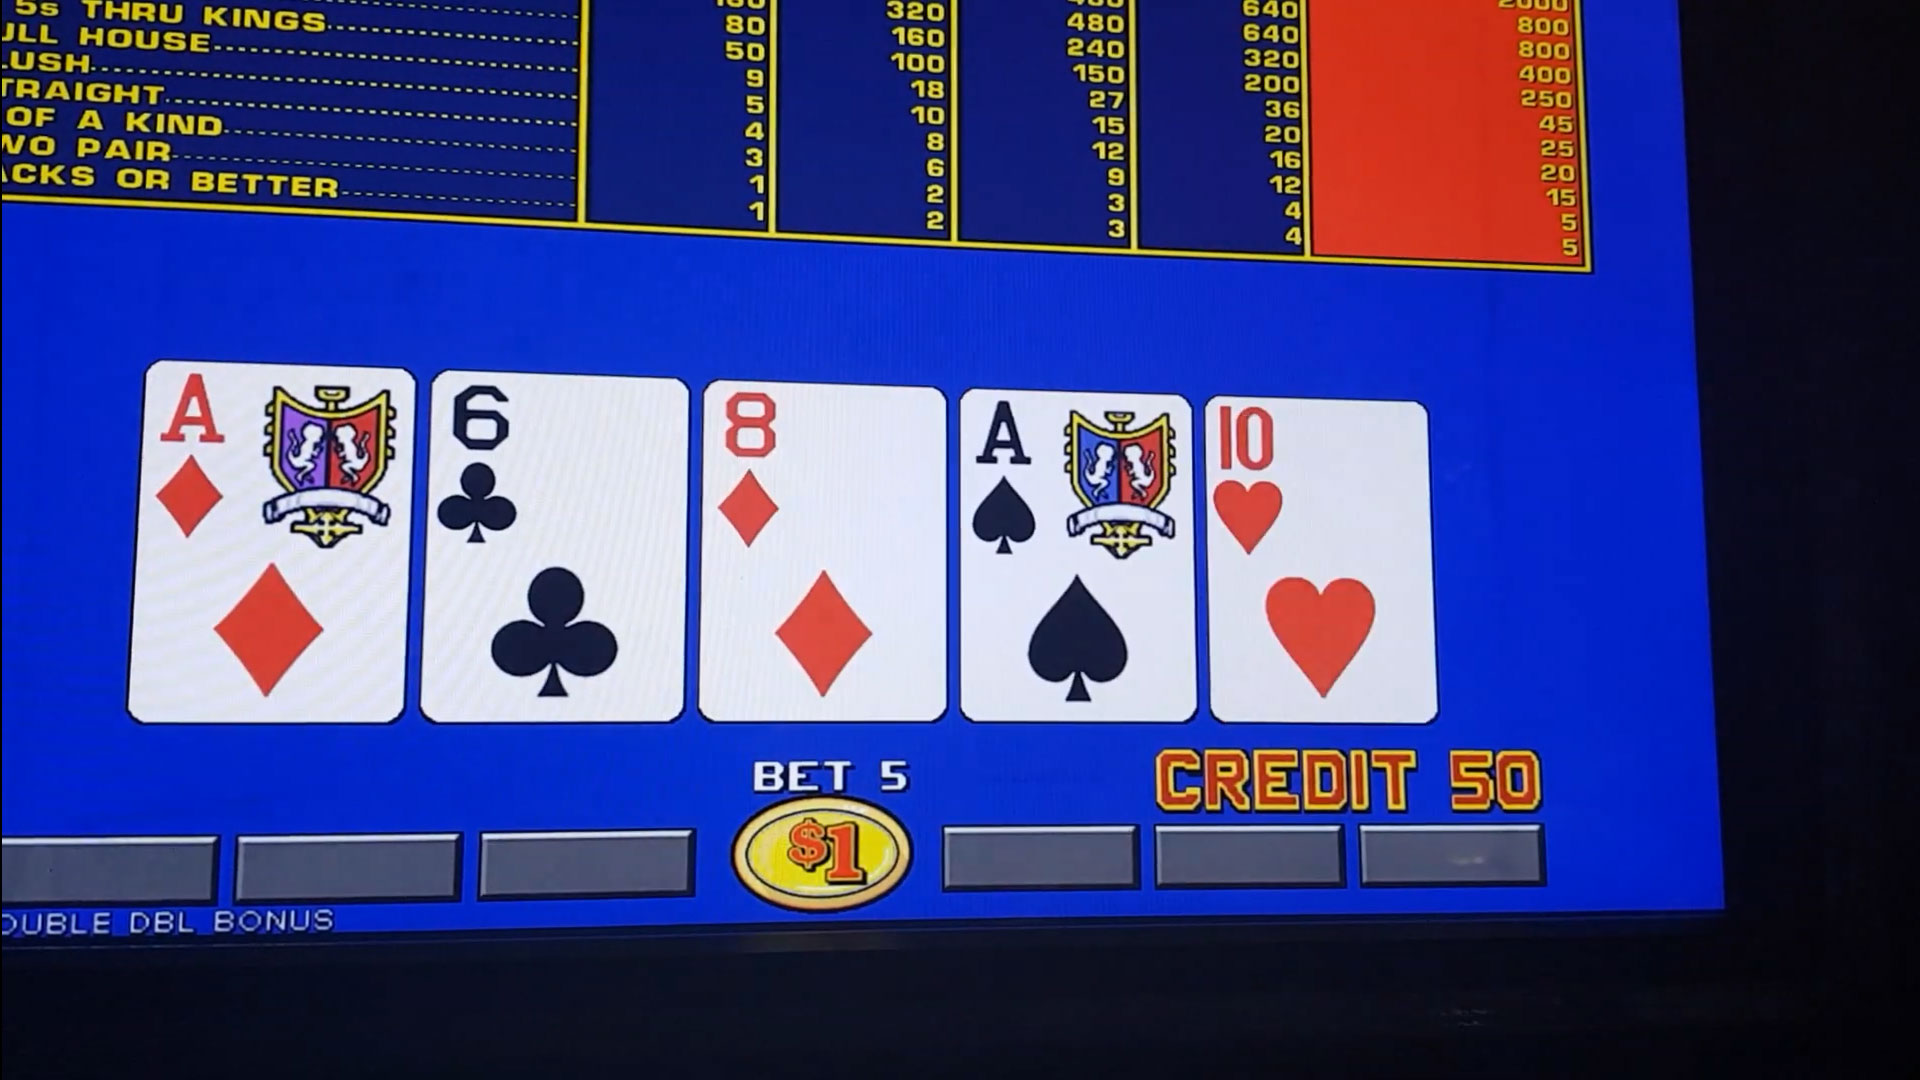C6: (440, 378, 673, 556)
D8: (711, 392, 934, 558)
DA: (156, 375, 406, 547)
HT: (1213, 410, 1425, 567)
SA: (971, 401, 1189, 564)
